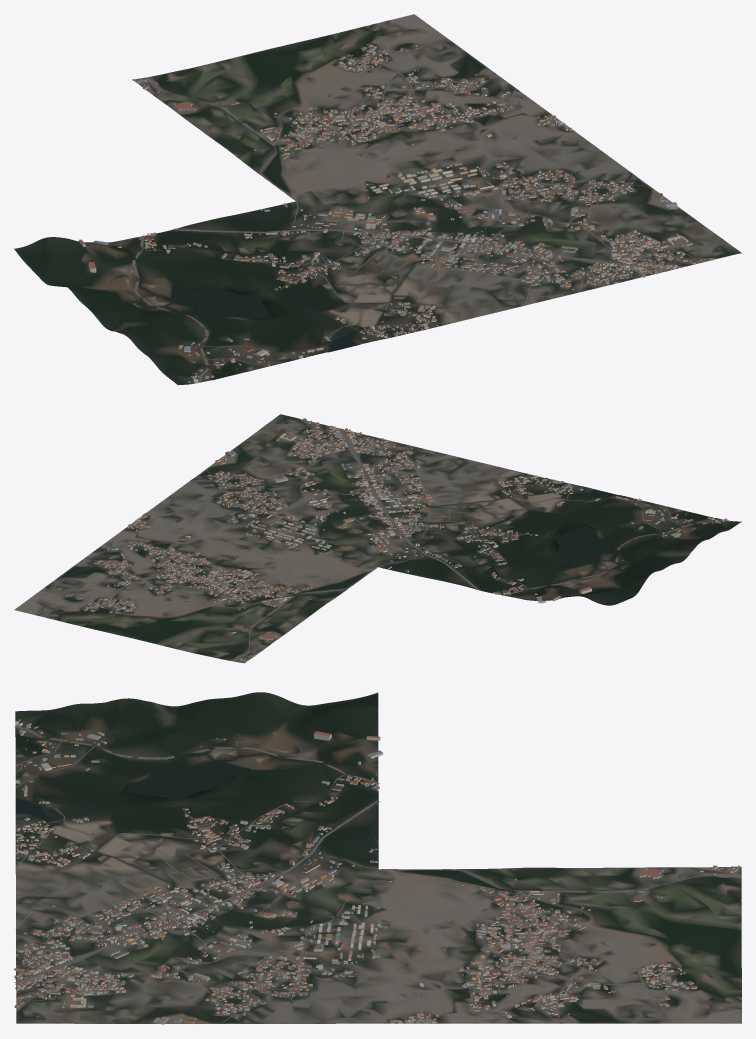
The picture shows the model from 3 angles, top to bottom: view 1: azimuth 30°, elevation 25°; view 2: azimuth 150°, elevation 25°; view 3: azimuth 270°, elevation 25°; orthographic projection. The views are drawn at different scales.
Parts seen in each view (by area): view 1: ground, buildings, roads, water; view 2: ground, buildings, roads, water; view 3: ground, buildings, roads, water.
Boxes of the visible parts, x1=… form: ground: x1=14, y1=14, x2=741, y2=384; buildings: x1=79, y1=43, x2=713, y2=383; roads: x1=100, y1=32, x2=718, y2=382; water: x1=164, y1=134, x2=358, y2=379; ground: x1=14, y1=414, x2=741, y2=663; buildings: x1=66, y1=418, x2=730, y2=662; roads: x1=35, y1=419, x2=723, y2=661; water: x1=303, y1=489, x2=712, y2=618; ground: x1=15, y1=692, x2=741, y2=1023; buildings: x1=14, y1=719, x2=739, y2=1024; roads: x1=15, y1=725, x2=741, y2=1023; water: x1=15, y1=734, x2=575, y2=869.
Size of the model in its own units: 2801 by 128 by 2812.
